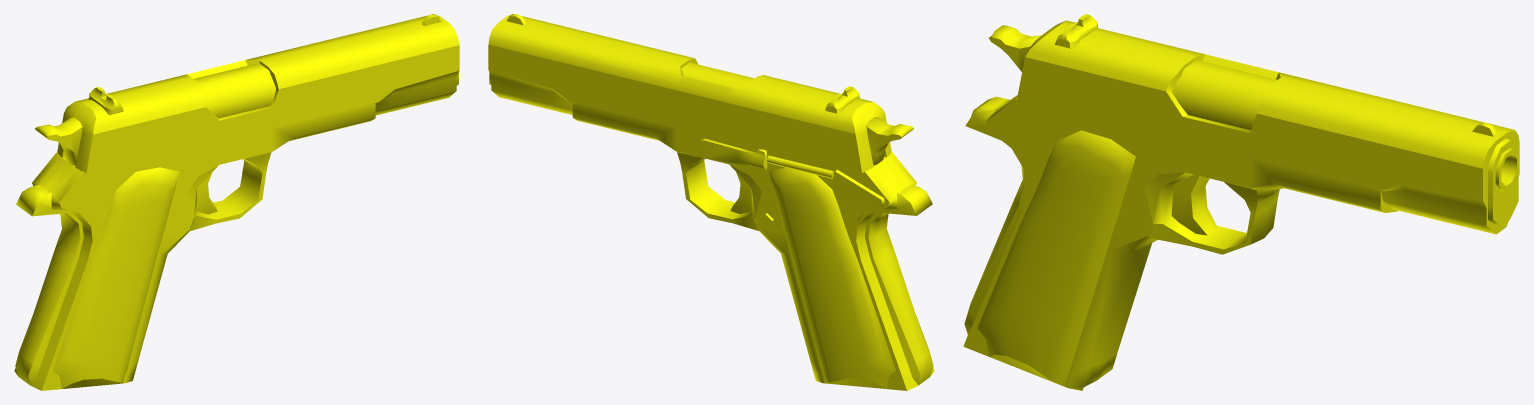
Rendered from Pistol_01.glb.
3 views of the same model, side by side, from view 1: azimuth 30°, elevation 25°; view 2: azimuth 150°, elevation 25°; view 3: azimuth 330°, elevation 25° (orthographic). The views are drawn at different scales.
Parts seen in each view (by area): view 1: Main_Mesh, Slide_Mesh, Hammer_Mesh, Trigger_Mesh; view 2: Main_Mesh, Slide_Mesh, Hammer_Mesh, Trigger_Mesh; view 3: Main_Mesh, Slide_Mesh, Trigger_Mesh, Hammer_Mesh.
Boxes of the visible parts, x1,y1,x2,y2 form: Main_Mesh: (14,42,459,390); Slide_Mesh: (57,14,459,173); Hammer_Mesh: (35,117,82,165); Trigger_Mesh: (196,172,217,214); Main_Mesh: (572,62,934,390); Slide_Mesh: (488,14,891,172); Hammer_Mesh: (866,117,913,165); Trigger_Mesh: (730,172,751,213); Main_Mesh: (963,60,1519,390); Slide_Mesh: (1017,14,1519,234); Trigger_Mesh: (1171,174,1217,235); Hammer_Mesh: (989,25,1041,71).
Bounding box in the file's own units: 0.2238 × 0.1411 × 0.0322.
1 material, 1 textured.
